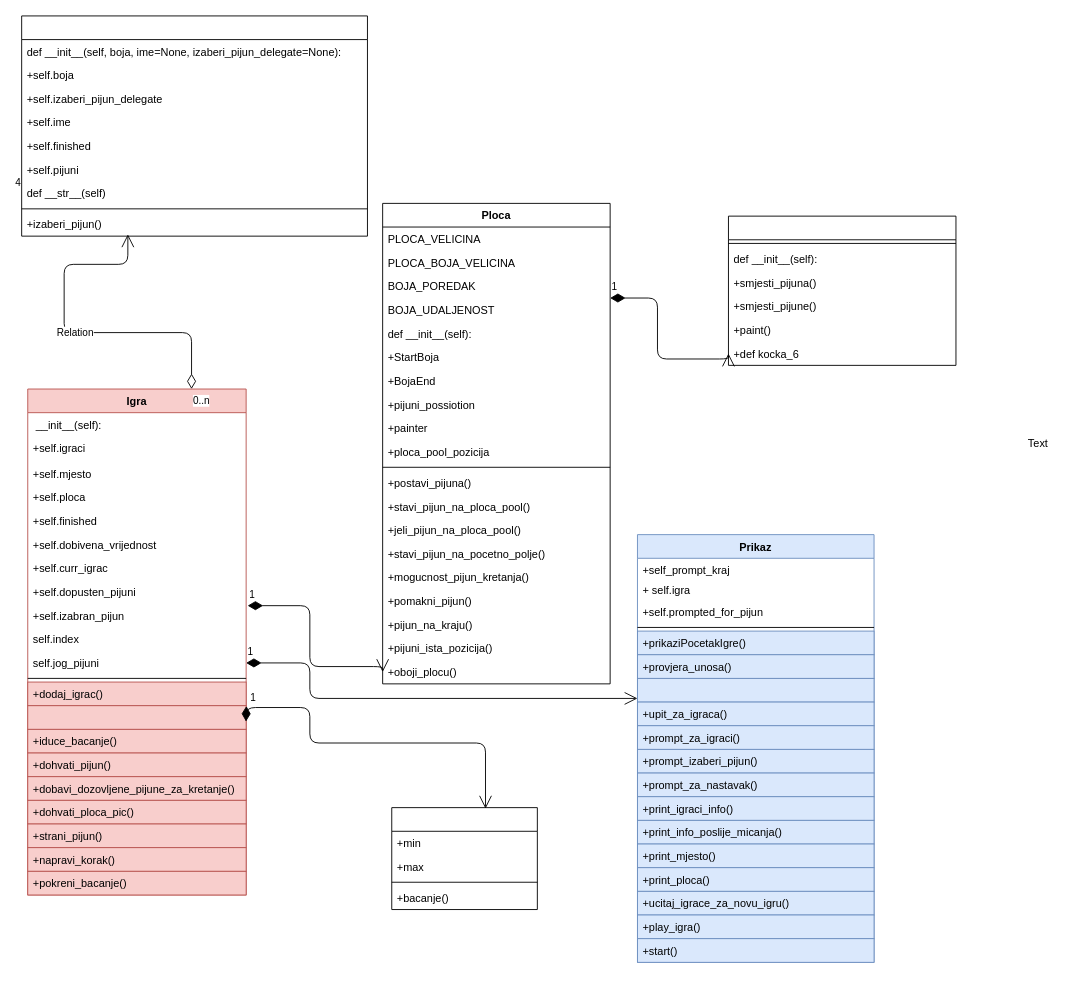
Image size: 1072x981. Some labels were removed from this diagram. The box of each missing label's shape, as (x1, y1, x2, y2) in pixels:
+dohvati_korisnikov_pocetni_izbor(): (637, 677, 874, 702)
+dostupne_boje(): (27, 705, 246, 729)
Igrac: (21, 15, 367, 236)
Kocka: (391, 807, 537, 910)
ObojiPlocu: (728, 215, 956, 365)
